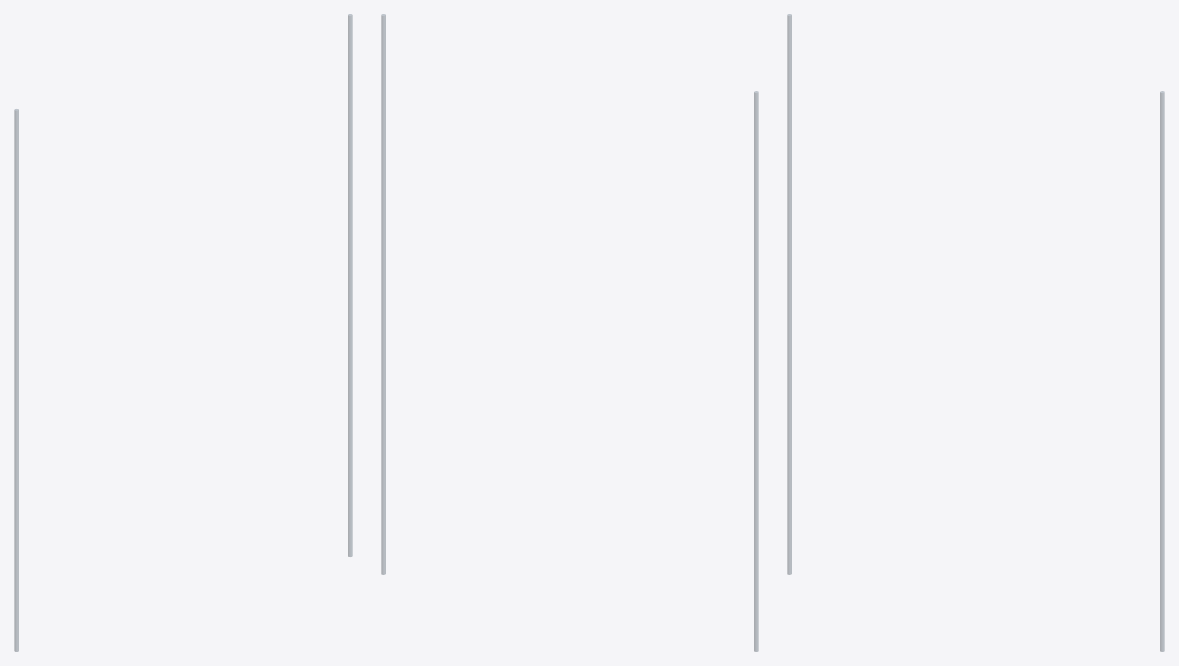
Rendered from Level_03_mep.glb.
3 renders of one model, left to right at view 1: azimuth 30°, elevation 25°; view 2: azimuth 150°, elevation 25°; view 3: azimuth 330°, elevation 25°, orthographic. The views are drawn at different scales.
Parts seen in each view (by area): view 1: world; view 2: world; view 3: world.
Part boxes in pixels (x1,y1,x2,y2): world: [14, 14, 352, 651]; world: [381, 14, 758, 651]; world: [787, 14, 1164, 651].
Bounding box in the file's own units: 6.32 × 9.3 × 0.4989.
